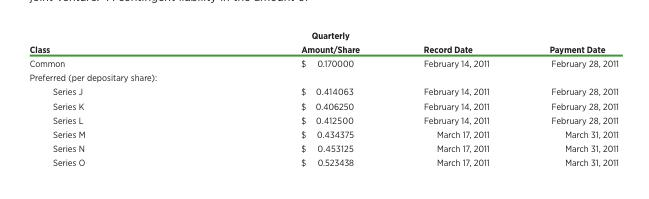table: (28, 28, 617, 167)
table column: (192, 28, 390, 167), (28, 28, 192, 167), (390, 28, 518, 167), (518, 28, 617, 167)
table column header: (28, 28, 617, 69)
table projected row header: (28, 69, 617, 84)
table row: (28, 28, 617, 69), (28, 69, 617, 84), (28, 140, 617, 155), (28, 84, 617, 98), (28, 98, 617, 112), (28, 112, 617, 126), (28, 126, 617, 140), (28, 155, 617, 167)
